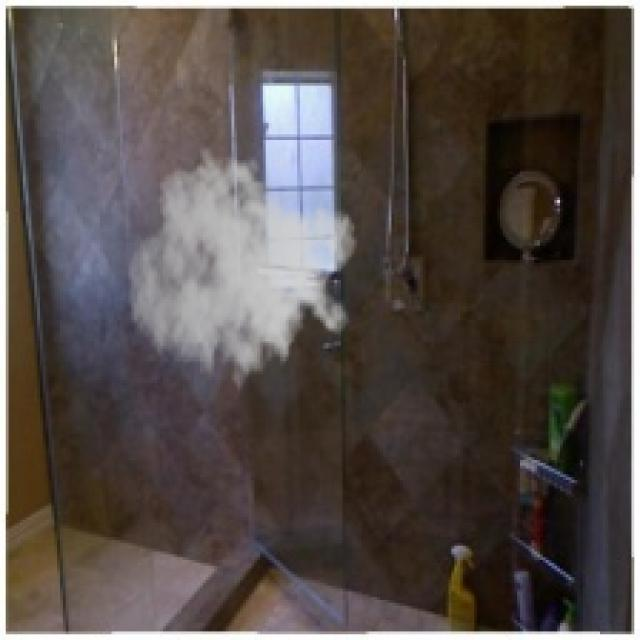smoke: (126, 146, 360, 406)
